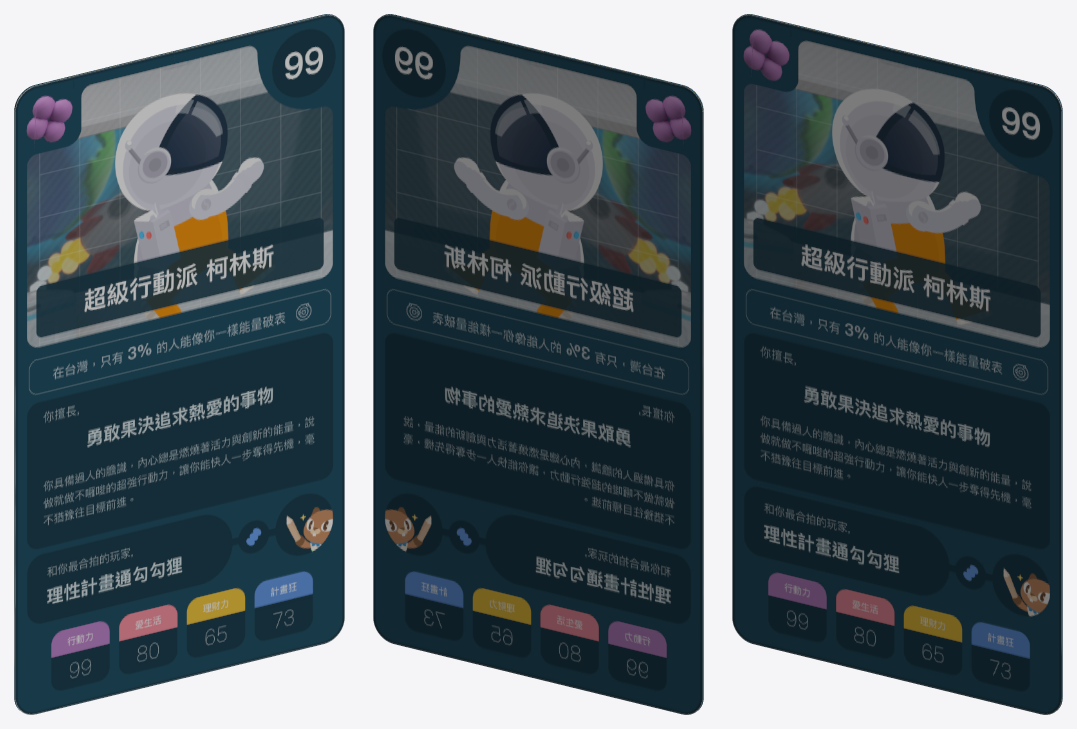
File: Brightness30_Diffusion_Only.glb
The picture shows the model from 3 angles, left to right: view 1: azimuth 30°, elevation 25°; view 2: azimuth 150°, elevation 25°; view 3: azimuth 330°, elevation 25°; orthographic projection.
Visible parts, largest first — view 1: 形狀_1_4; view 2: 形狀_1_4; view 3: 形狀_1_4.
Boxes of the visible parts, x1=… form: 形狀_1_4: x1=14, y1=14, x2=344, y2=714; 形狀_1_4: x1=373, y1=14, x2=703, y2=714; 形狀_1_4: x1=732, y1=14, x2=1062, y2=714.
Bounding box in the file's own units: 1.5 × 2.74 × 0.00806.
Materials: 1 (1 with a texture image).
